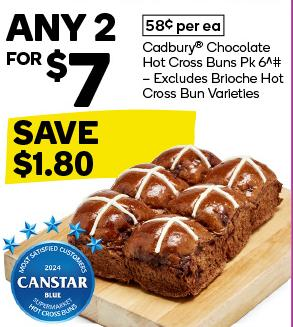description_block: (137, 41, 289, 107)
price_main: (3, 5, 127, 110)
product_image_block: (81, 143, 280, 297)
promo_text_block: (0, 116, 167, 185)
